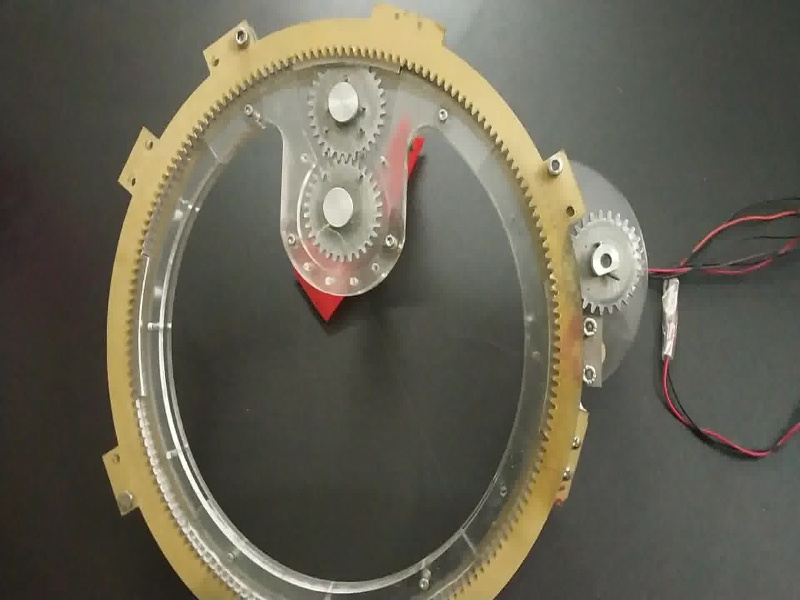stirrer: (274, 74, 410, 298)
